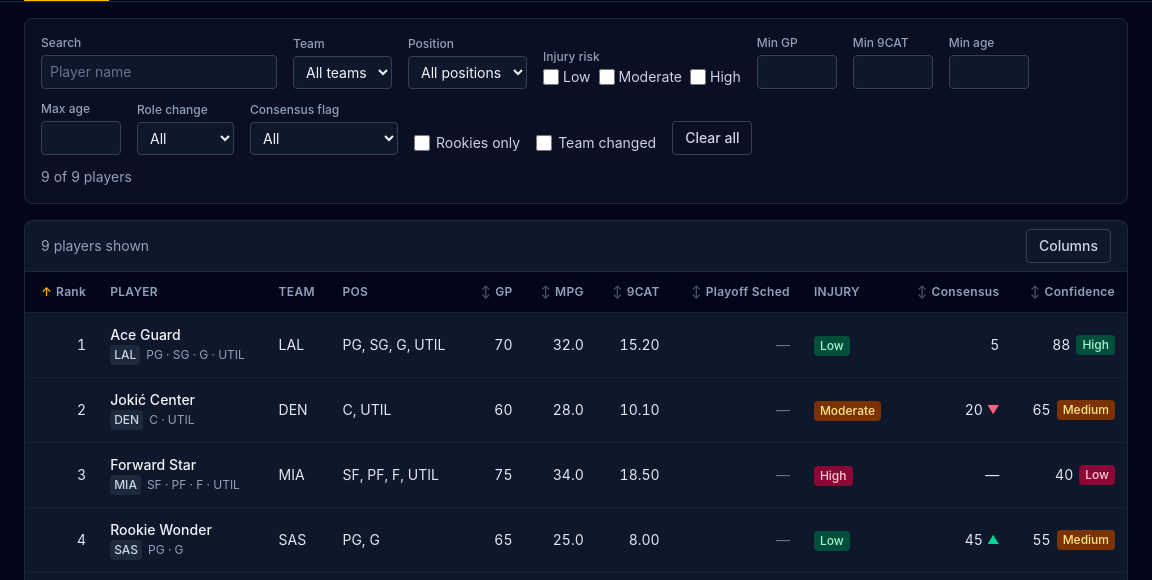
Test: App › selecting a row opens the real player detail panel (Task 17 replaced the placeholder)
Click the text "Ace Guard" at point(145, 334), box [110,326,181,343]
(page scrolled)
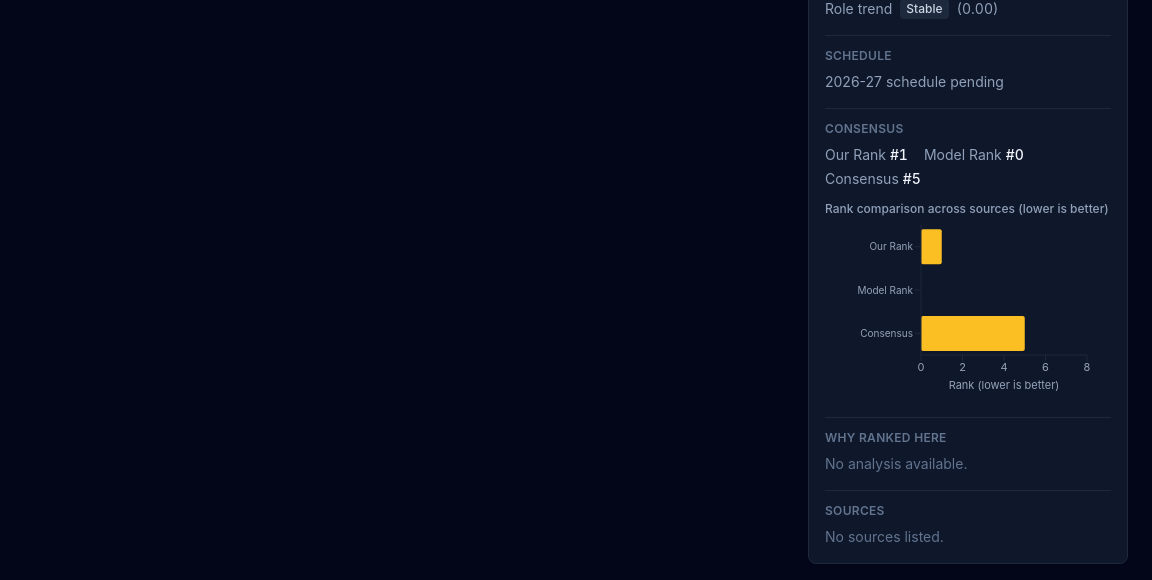
Expected: the heading "Why ranked here" is shown, [825,430,947,445]
